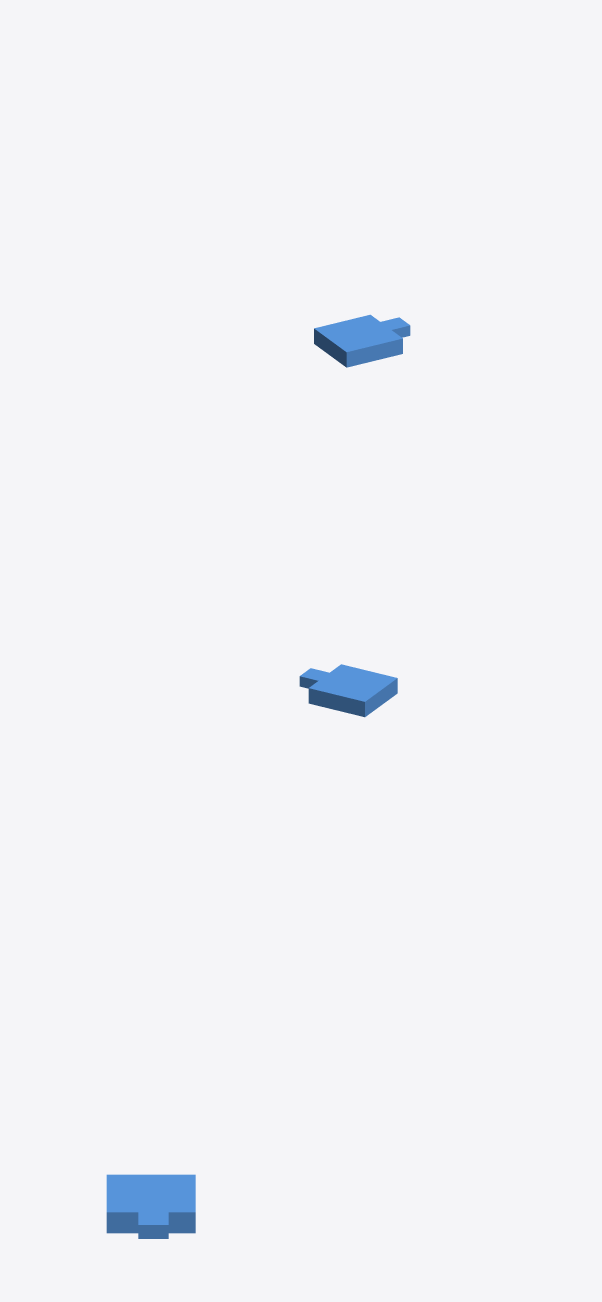
Rendered from SoftbodyFluid.glb.
The picture shows the model from 3 angles, top to bottom: view 1: azimuth 30°, elevation 25°; view 2: azimuth 150°, elevation 25°; view 3: azimuth 270°, elevation 25°; orthographic projection. The views are drawn at different scales.
Parts seen in each view (by area): view 1: Cube.001; view 2: Cube.001; view 3: Cube.001.
Part boxes in pixels (x1,y1,x2,y2): Cube.001: (314,314,410,367); Cube.001: (299,664,397,717); Cube.001: (106,1174,195,1238).
Bounding box in the file's own units: 7.1 × 3.83 × 7.1.
